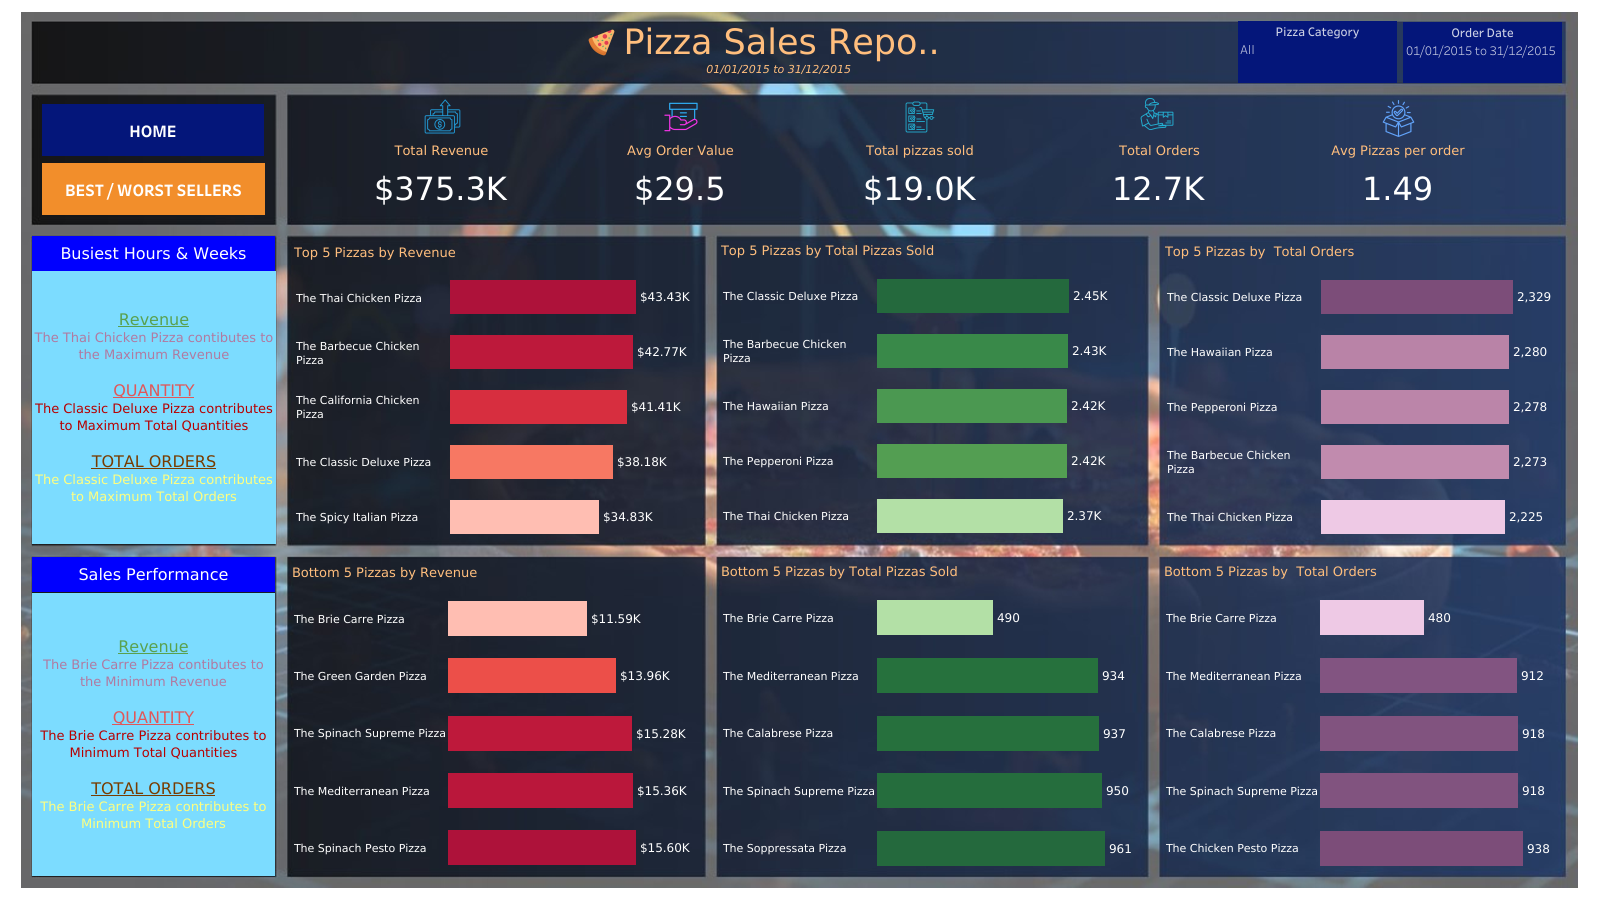

Layout of this report page (visuals, bound fields, positions):
{"tool":"tableau","page":{"name":"Best & Worst Sellers","canvas":[1600,900],"ordinal":0},"visuals":[{"type":"image","param":"Image/Pizza Tableau 2.jpg","box":[8,8,1584,884]},{"type":"filter","title":"Date Range","param":"[federated.0qp0t461j9hdfd17t07n71o5kqj4].[none:pizza_category:nk]","box":[1238,21,159,62]},{"type":"filter","title":"Date Range","param":"[federated.0qp0t461j9hdfd17t07n71o5kqj4].[none:order_date:qk]","box":[1403,22,159,61]},{"type":"text","box":[620.9,25,318.5,34]},{"type":"image","param":"Image/pizza-slice.png","box":[584,29,35.9,27]},{"type":"worksheet","title":"Date Range","mark":"Automatic","box":[660.3,55,234.7,28]},{"type":"image","param":"Image/profit-growth.png","box":[422.4,96,40.6,42]},{"type":"image","param":"Image/order-delivery.png","box":[904.4,96,31.2,42]},{"type":"image","param":"Image/delivery-man.png","box":[1139.7,97,34,39]},{"type":"image","param":"Image/order (1).png","box":[1379.8,97,36.9,44]},{"type":"image","param":"Image/shipping-box.png","box":[662.5,98,37.8,39]},{"type":"dashboard-object","box":[42,104,222,52]},{"type":"worksheet","title":"KPI BANNER","mark":"Automatic","box":[322.3,140,1195.5,78]},{"type":"dashboard-object","box":[42,163,223,52]},{"type":"text","box":[32,236,243,35]},{"type":"worksheet","title":"Top 5 Pizzas by Total Pizzas Sold","mark":"Automatic","rows":["pizza_name"],"cols":["Calculation_46443381885440003"],"box":[717,236,406,307]},{"type":"worksheet","title":"Top 5 Pizzas by  Total Orders","mark":"Automatic","rows":["pizza_name"],"cols":["Calculation_46443381884887041"],"box":[1161,237,405,307]},{"type":"worksheet","title":"Top 5 Pizzas by Revenue","mark":"Automatic","rows":["pizza_name"],"cols":["Calculation_46443381884649472"],"box":[290,238,414,306]},{"type":"text","box":[32,271,244,273]},{"type":"text","box":[32,557,243,35]},{"type":"worksheet","title":"Bottom 5 Pizzas by Total Pizzas Sold","mark":"Automatic","rows":["pizza_name"],"cols":["Calculation_46443381885440003"],"box":[717,557,430,320]},{"type":"worksheet","title":"Bottom 5 Pizzas by  Total Orders","mark":"Automatic","rows":["pizza_name"],"cols":["Calculation_46443381884887041"],"box":[1160,557,404,320]},{"type":"worksheet","title":"Bottom 5 Pizzas by Revenue","mark":"Automatic","rows":["pizza_name"],"cols":["Calculation_46443381884649472"],"box":[288,558,416,318]},{"type":"text","box":[32,593,243,283]}]}

Visuals, with their boxes in screenshot pixels (x1, y1, x2, y2), scaled from the page's 1600x900 canvas onto the 1599x899 screenshot:
image: [8, 8, 1591, 891]
"Date Range" filter: [1237, 21, 1396, 83]
"Date Range" filter: [1402, 22, 1561, 83]
text: [621, 25, 939, 59]
image: [584, 29, 620, 56]
"Date Range" worksheet: [660, 55, 894, 83]
image: [422, 96, 463, 138]
image: [904, 96, 935, 138]
image: [1139, 97, 1173, 136]
image: [1379, 97, 1416, 141]
image: [662, 98, 700, 137]
dashboard-object: [42, 104, 264, 156]
"KPI BANNER" worksheet: [322, 140, 1517, 218]
dashboard-object: [42, 163, 265, 215]
text: [32, 236, 275, 271]
"Top 5 Pizzas by Total Pizzas Sold" worksheet: [717, 236, 1122, 542]
"Top 5 Pizzas by  Total Orders" worksheet: [1160, 237, 1565, 543]
"Top 5 Pizzas by Revenue" worksheet: [290, 238, 704, 543]
text: [32, 271, 276, 543]
text: [32, 556, 275, 591]
"Bottom 5 Pizzas by Total Pizzas Sold" worksheet: [717, 556, 1146, 876]
"Bottom 5 Pizzas by  Total Orders" worksheet: [1159, 556, 1563, 876]
"Bottom 5 Pizzas by Revenue" worksheet: [288, 557, 704, 875]
text: [32, 592, 275, 875]
